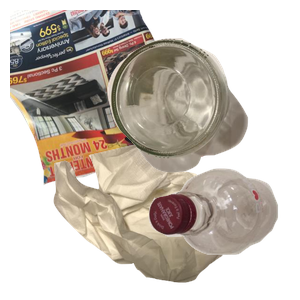glass: (105, 36, 300, 201)
paper: (10, 10, 230, 188)
plastic: (146, 166, 300, 300)
trash: (51, 142, 278, 300)
